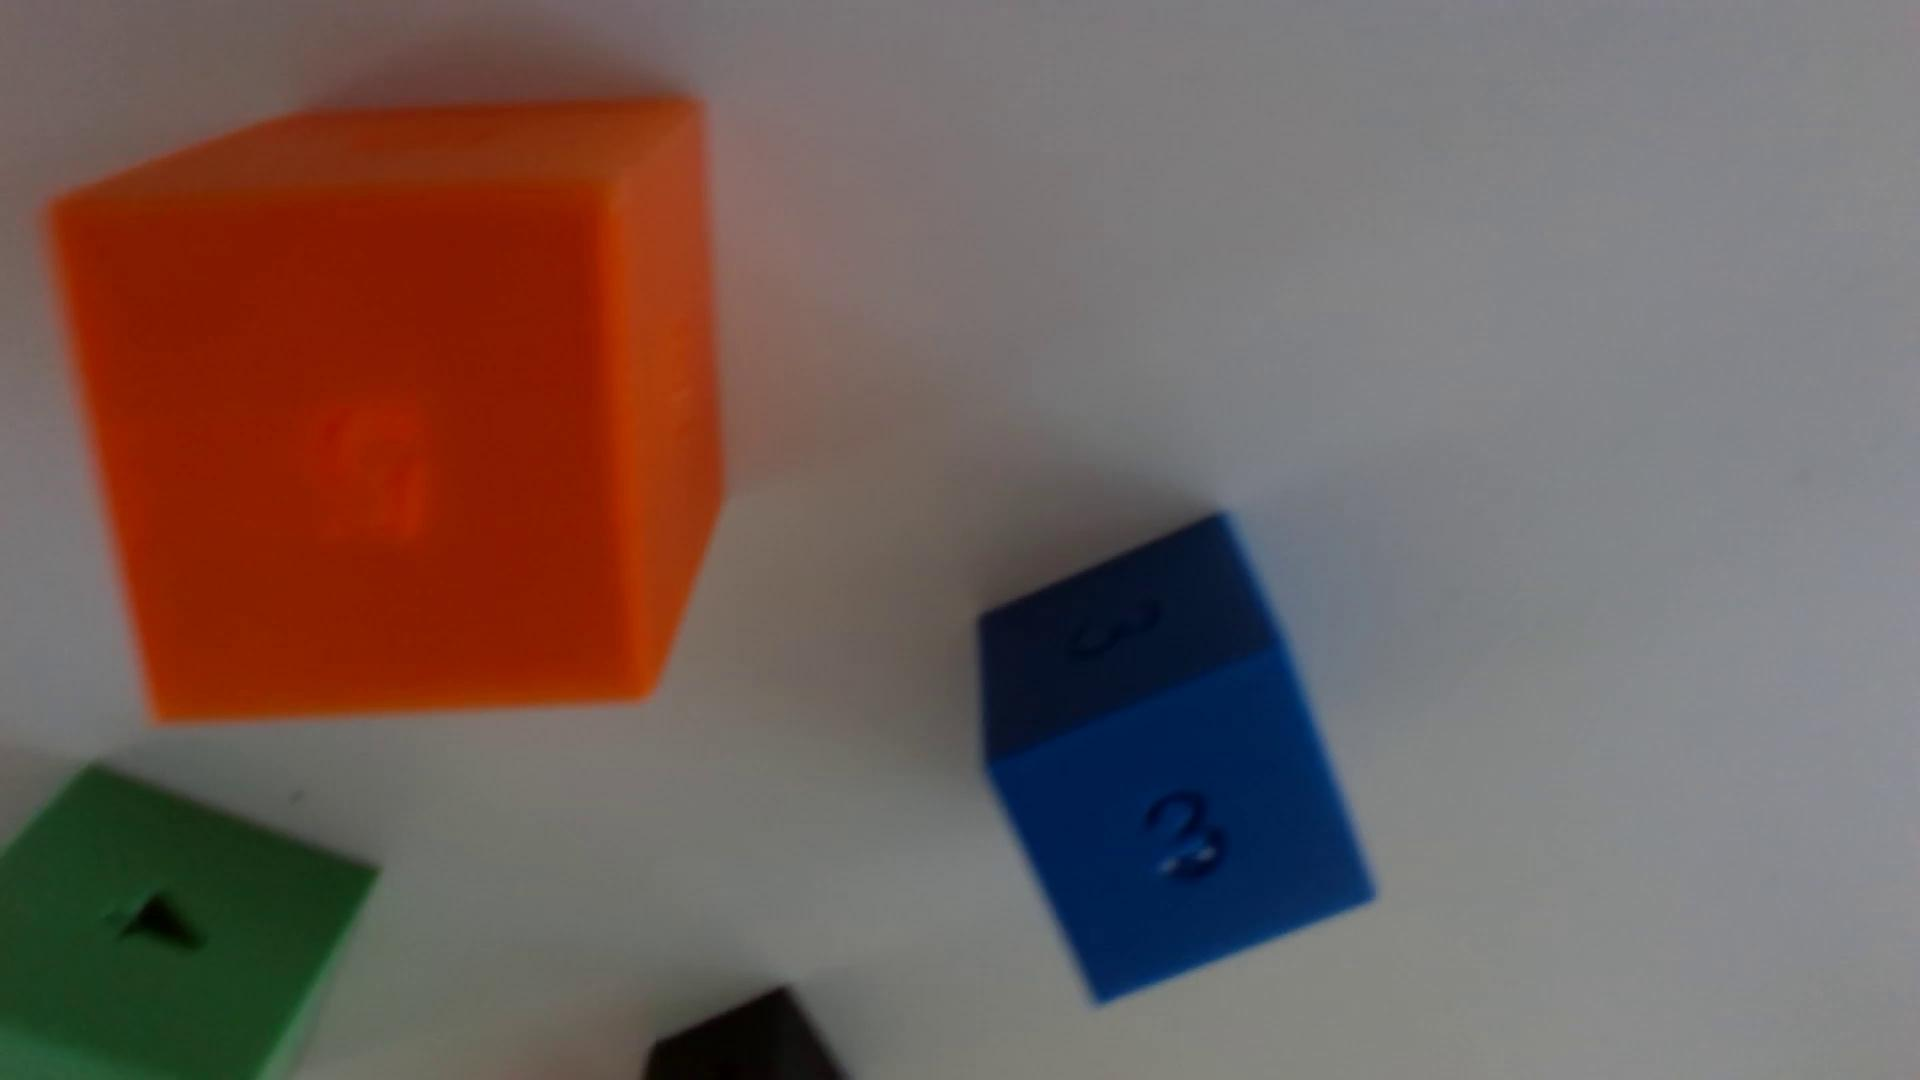black: (642, 986, 848, 1080)
blue: (978, 514, 1375, 1001)
green: (0, 766, 377, 1080)
orange: (49, 96, 724, 723)
